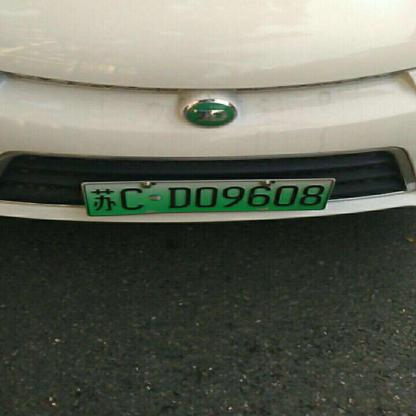lp: (84, 180, 330, 215)
